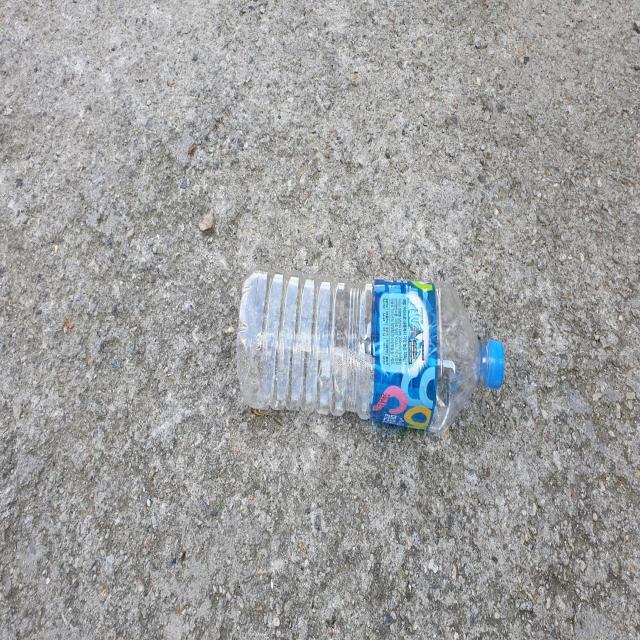plastic: (237, 270, 505, 433)
